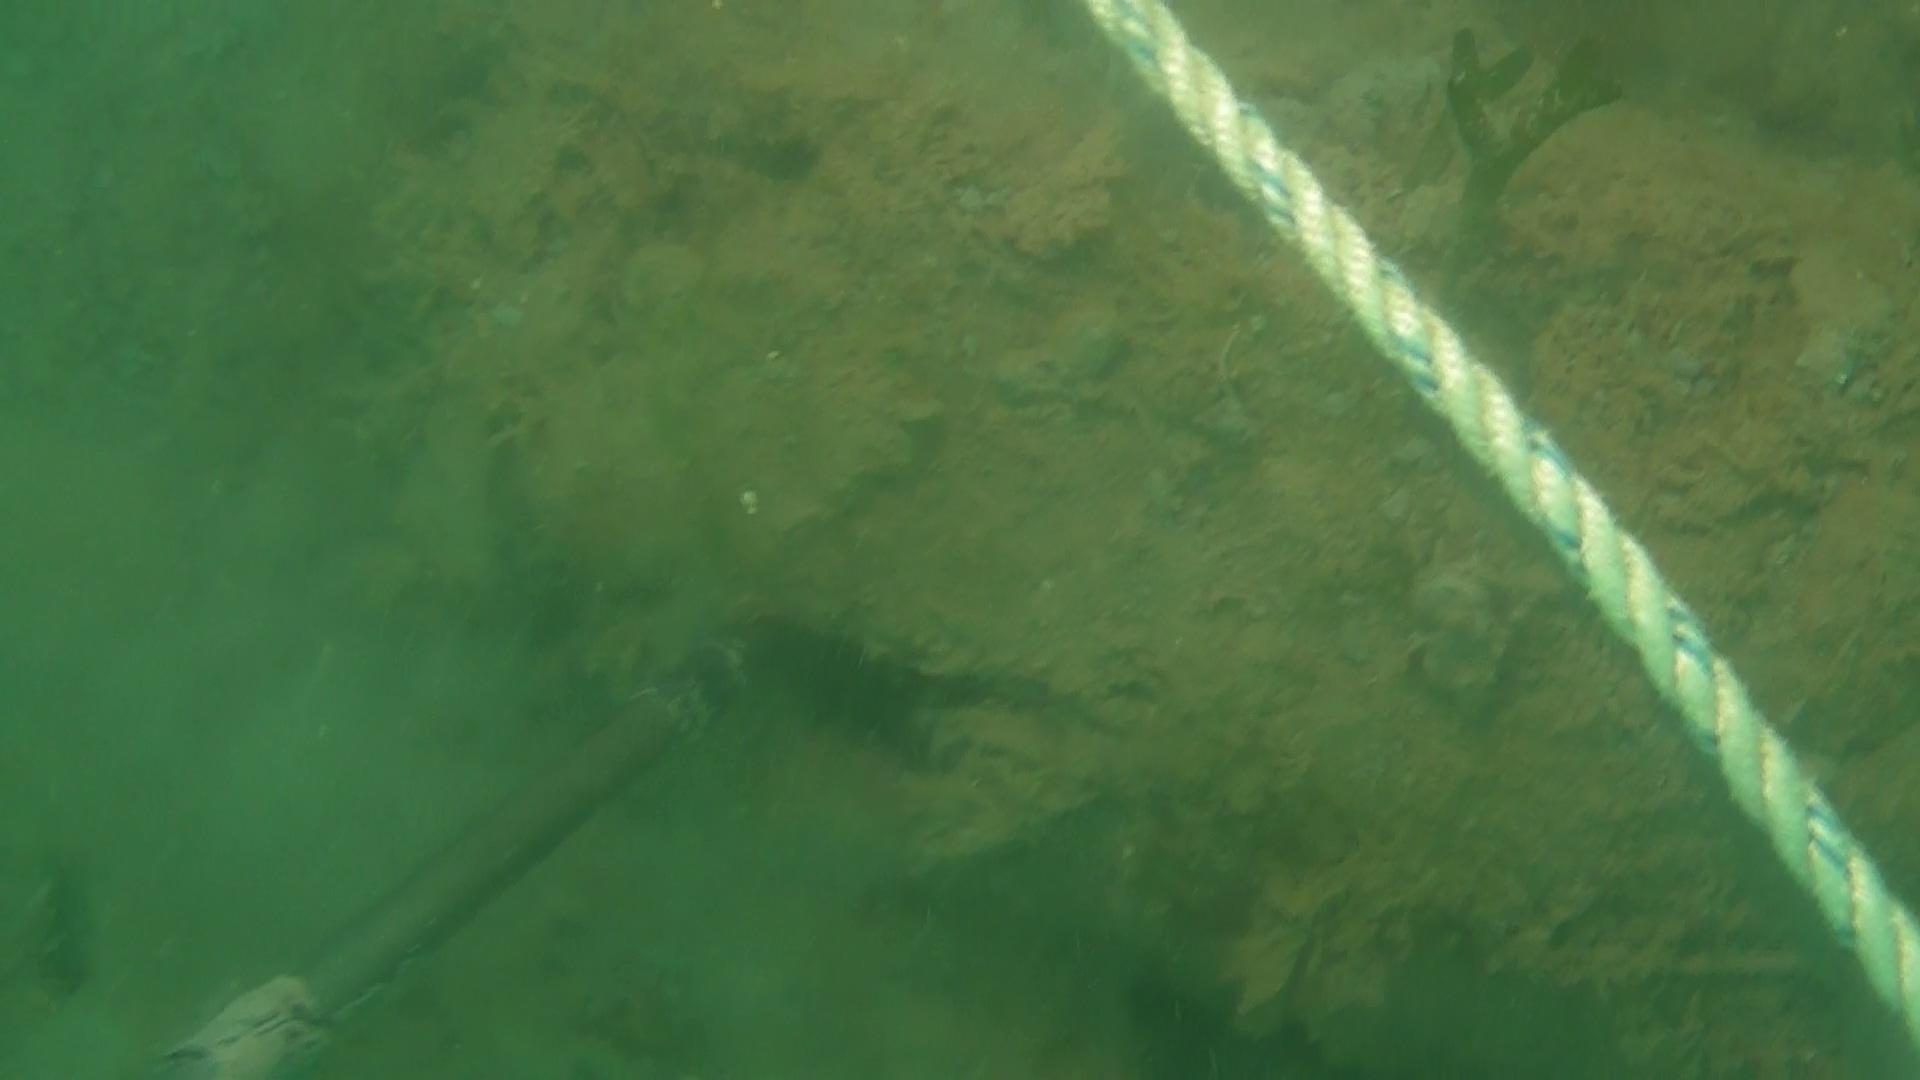rope: (1080, 0, 1920, 1058)
